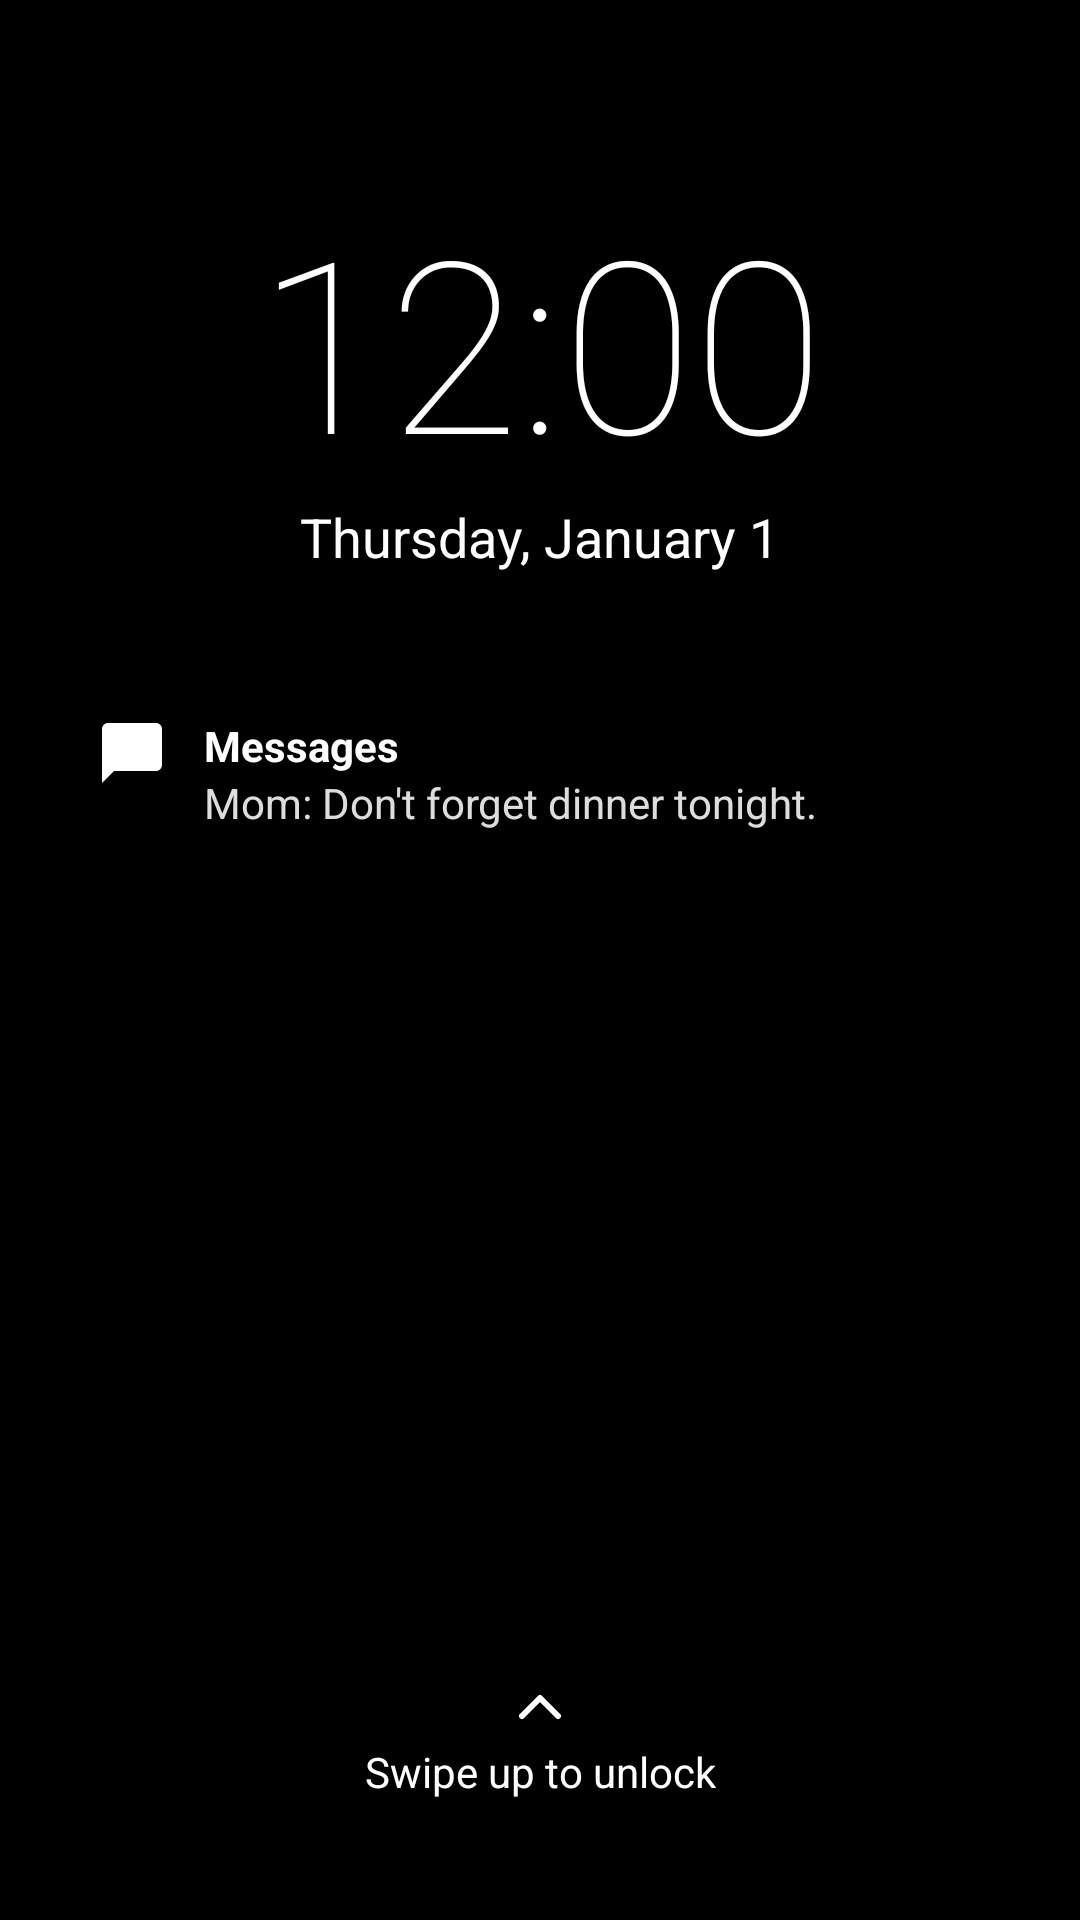

Where icons sit on this 1080×1920 app screen, as (x1, y1, x2, y2):
chevron up: (519, 1695, 561, 1719)
